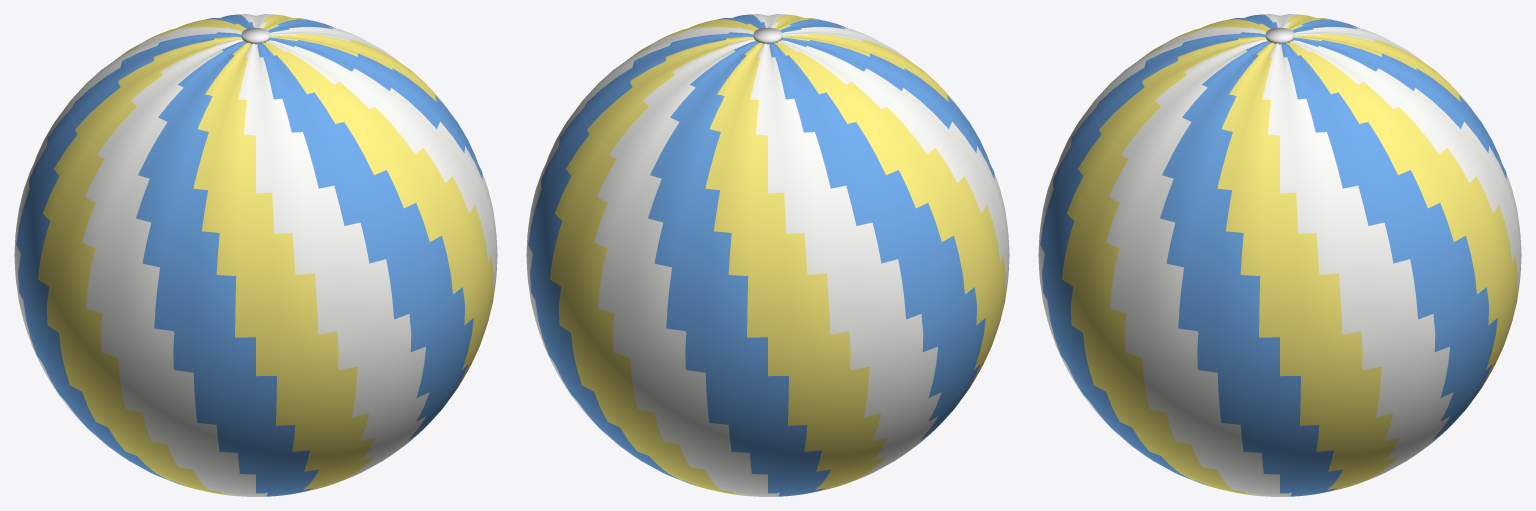
Rendered from volleyball.glb.
The picture shows the model from 3 angles, left to right: view 1: azimuth 30°, elevation 25°; view 2: azimuth 150°, elevation 25°; view 3: azimuth 270°, elevation 25°; orthographic projection.
Parts seen in each view (by area): view 1: volleyball; view 2: volleyball; view 3: volleyball.
Boxes of the visible parts, x1,y1,x2,y2 form: volleyball: (14,14,497,496); volleyball: (526,14,1009,496); volleyball: (1038,14,1521,496).
Size of the model in its own units: 1 by 1.01 by 1.
